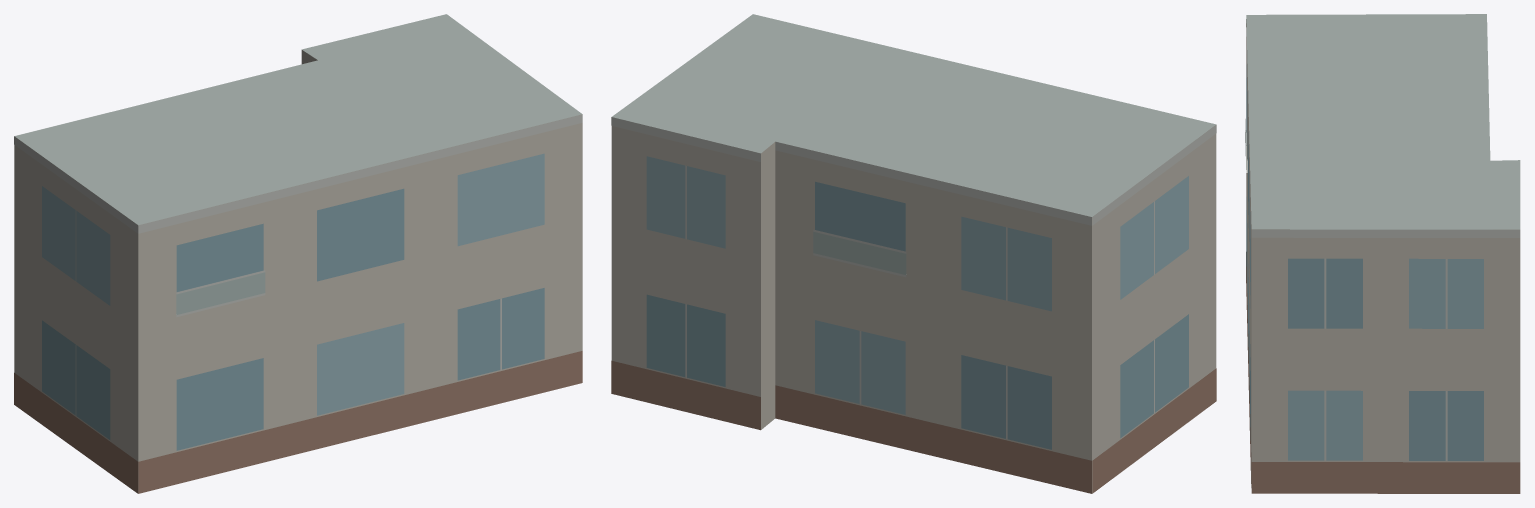
File: survey-upis-32493925.glb
The picture shows the model from 3 angles, left to right: view 1: azimuth 30°, elevation 25°; view 2: azimuth 150°, elevation 25°; view 3: azimuth 270°, elevation 25°; orthographic projection. The views are drawn at different scales.
Parts seen in each view (by area): view 1: survey-upis-32493925.tmp; view 2: survey-upis-32493925.tmp; view 3: survey-upis-32493925.tmp.
Boxes of the visible parts, bbox=[...] form: survey-upis-32493925.tmp: bbox=[14, 14, 582, 493]; survey-upis-32493925.tmp: bbox=[611, 14, 1216, 493]; survey-upis-32493925.tmp: bbox=[1245, 14, 1520, 493].
Bounding box in the file's own units: 13.5 × 7.7 × 7.28.
